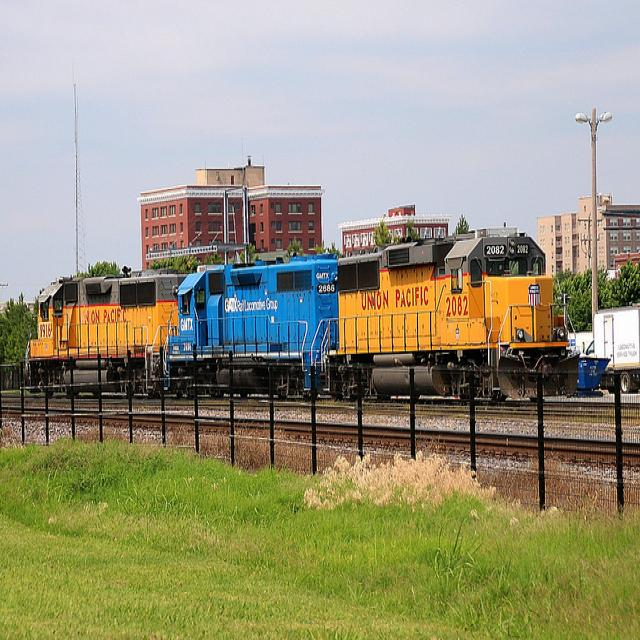Vehicle: (582, 307, 640, 394)
